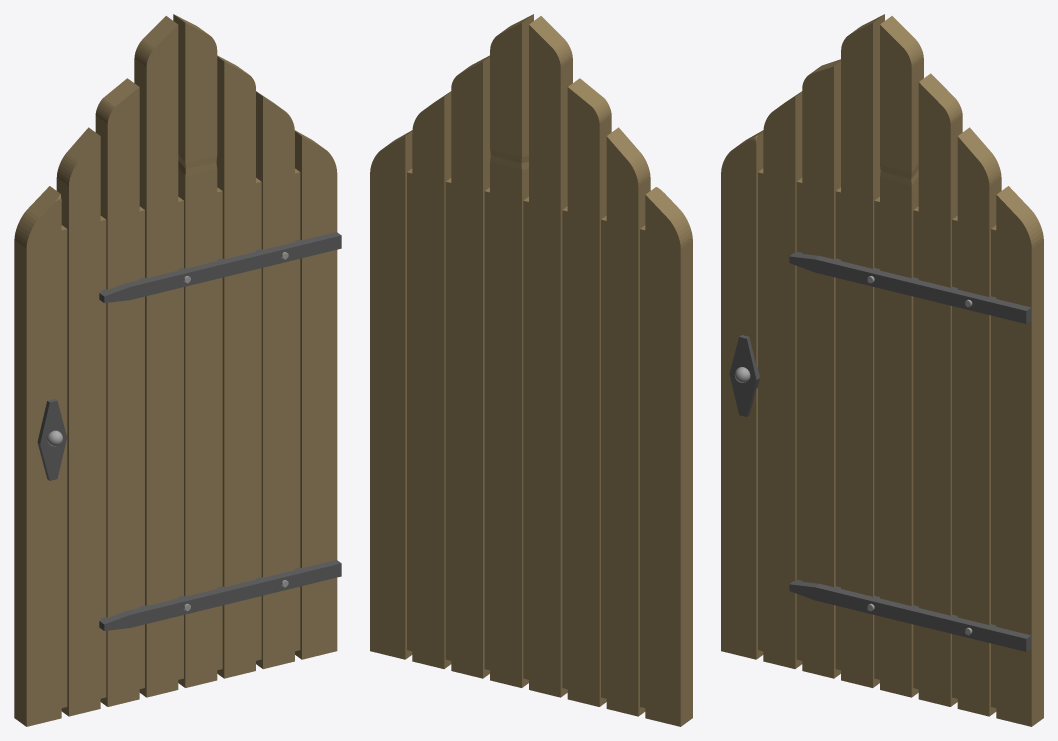
The model's file is Door.glb.
3 views of the same model, side by side, from view 1: azimuth 30°, elevation 25°; view 2: azimuth 150°, elevation 25°; view 3: azimuth 330°, elevation 25° (orthographic).
Visible parts, largest first — view 1: Cube, Cube.004, Cube.001, Cube.007; view 2: Cube; view 3: Cube, Cube.004, Cube.001, Cube.007.
Boxes of the visible parts, <box> form: Cube: <box>14,14,337,726</box>; Cube.004: <box>99,560,341,630</box>; Cube.001: <box>99,232,341,303</box>; Cube.007: <box>37,399,67,480</box>; Cube: <box>370,14,692,726</box>; Cube: <box>721,14,1043,726</box>; Cube.004: <box>789,580,1031,651</box>; Cube.001: <box>789,252,1031,323</box>; Cube.007: <box>729,335,759,416</box>.
Bounding box in the file's own units: 2 × 4.09 × 0.2172.
